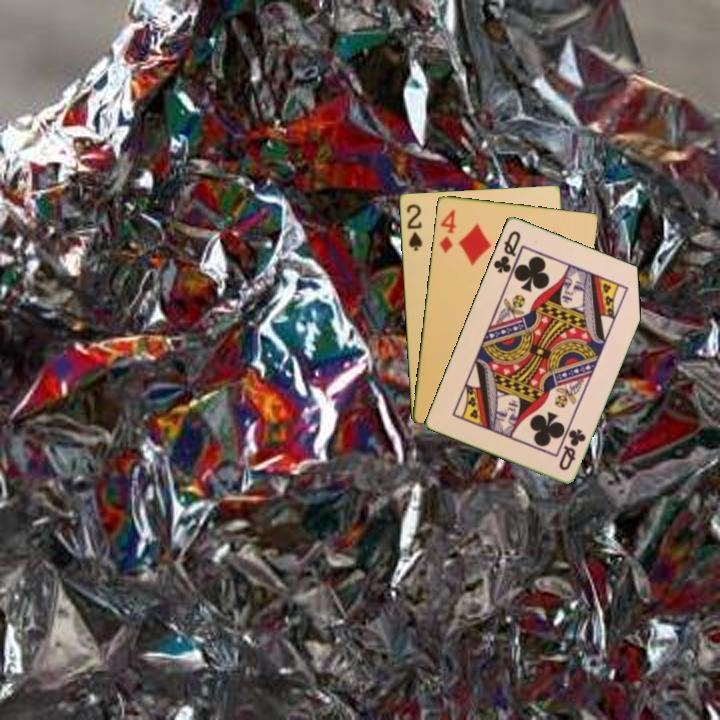2s: (403, 200, 425, 253)
4d: (436, 206, 459, 255)
Qc: (489, 227, 524, 281), (555, 425, 589, 473)
